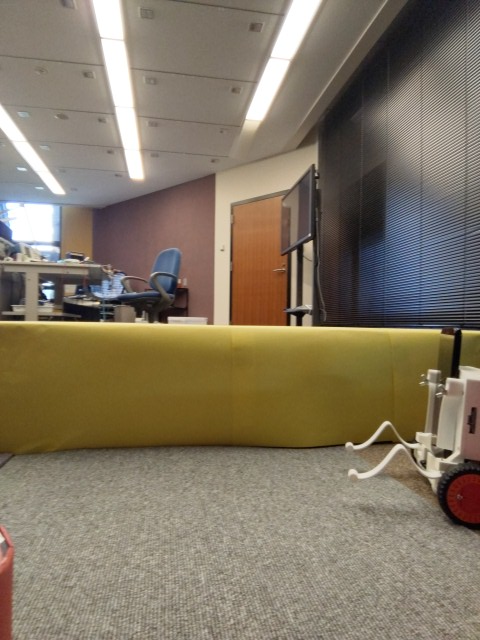bl: (345, 321, 480, 527)
